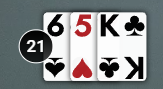5: (70, 12, 96, 40)
6: (42, 12, 70, 39)
k: (96, 12, 123, 39)
